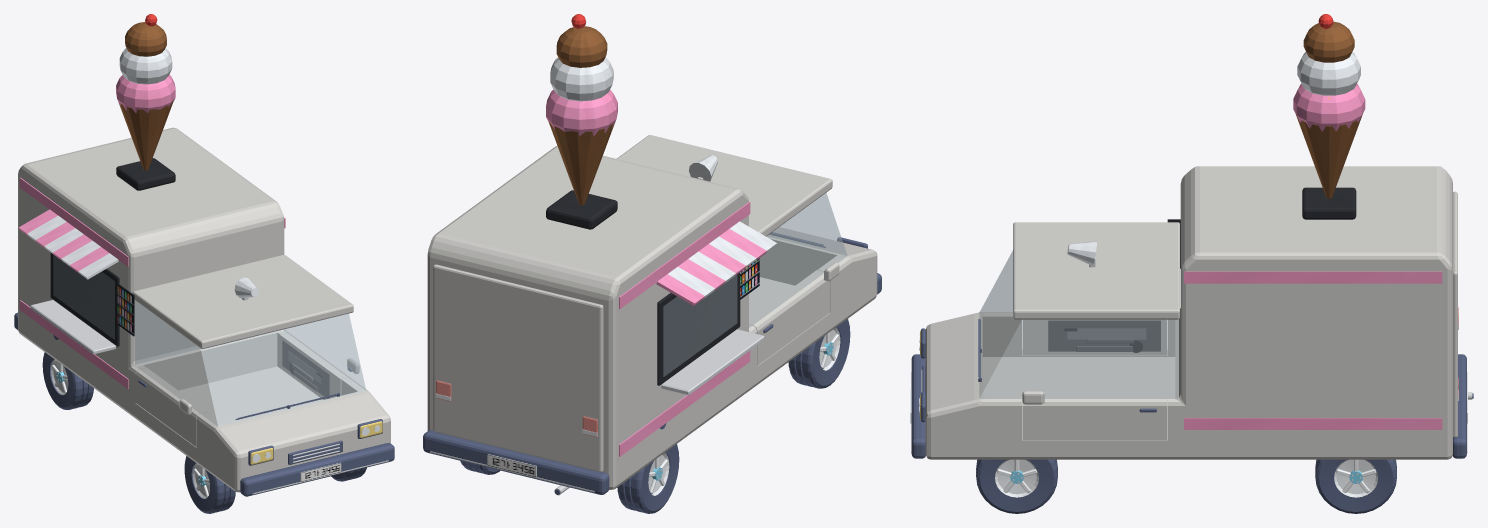
The model's file is V05_ice_cream_truck_v2.glb.
The picture shows the model from 3 angles, left to right: view 1: azimuth 30°, elevation 25°; view 2: azimuth 150°, elevation 25°; view 3: azimuth 270°, elevation 25°; orthographic projection. The views are drawn at different scales.
Parts seen in each view (by area): view 1: Body, Glass, ServingWindow, IceCream, Bumper_Front, Door_R, Wheel_FR, Wheel_RR, DoorDetail_L, Door_L, Grille; view 2: Body, Trunk, ServingWindow, IceCream, Glass, Bumper_Rear, Door_R, Wheel_FR, Wheel_RR, LicensePlate_Rear, Speaker; view 3: Body, Glass, IceCream, ServingWindow, Door_L, Wheel_FL, Wheel_RL, DoorDetail_R, Door_R, Bumper_Front, Trunk, Bumper_Rear.
Part boxes in pixels (box(x1,y1,x2,y2)): Body: box(18, 127, 390, 492); Glass: box(135, 301, 366, 426); ServingWindow: box(18, 177, 285, 388); IceCream: box(116, 14, 175, 190); Bumper_Front: box(240, 443, 394, 496); Door_R: box(135, 368, 206, 446); Wheel_FR: box(184, 456, 235, 513); Wheel_RR: box(42, 352, 93, 409); DoorDetail_L: box(282, 340, 329, 398); Door_L: box(280, 333, 349, 399); Grille: box(288, 440, 342, 464); Body: box(427, 135, 877, 489); Trunk: box(433, 264, 603, 472); ServingWindow: box(619, 202, 777, 456); IceCream: box(546, 14, 617, 229); Glass: box(749, 193, 847, 327); Bumper_Rear: box(423, 430, 609, 494); Door_R: box(748, 270, 830, 365); Wheel_FR: box(788, 319, 850, 388); Wheel_RR: box(617, 444, 679, 513); LicensePlate_Rear: box(487, 454, 536, 476); Speaker: box(689, 155, 717, 181); Body: box(925, 166, 1452, 459); Glass: box(979, 250, 1178, 398); IceCream: box(1293, 14, 1365, 219); ServingWindow: box(1167, 219, 1442, 429); Door_L: box(1023, 394, 1166, 440); Wheel_FL: box(976, 459, 1057, 513); Wheel_RL: box(1315, 459, 1396, 513); DoorDetail_R: box(1048, 320, 1160, 352); Door_R: box(1023, 319, 1166, 355); Bumper_Front: box(911, 354, 925, 458); Trunk: box(1453, 191, 1457, 437); Bumper_Rear: box(1452, 354, 1467, 458).
Bounding box in the file's own units: 2.52 × 4.7 × 5.23.
13 materials, 1 textured.
